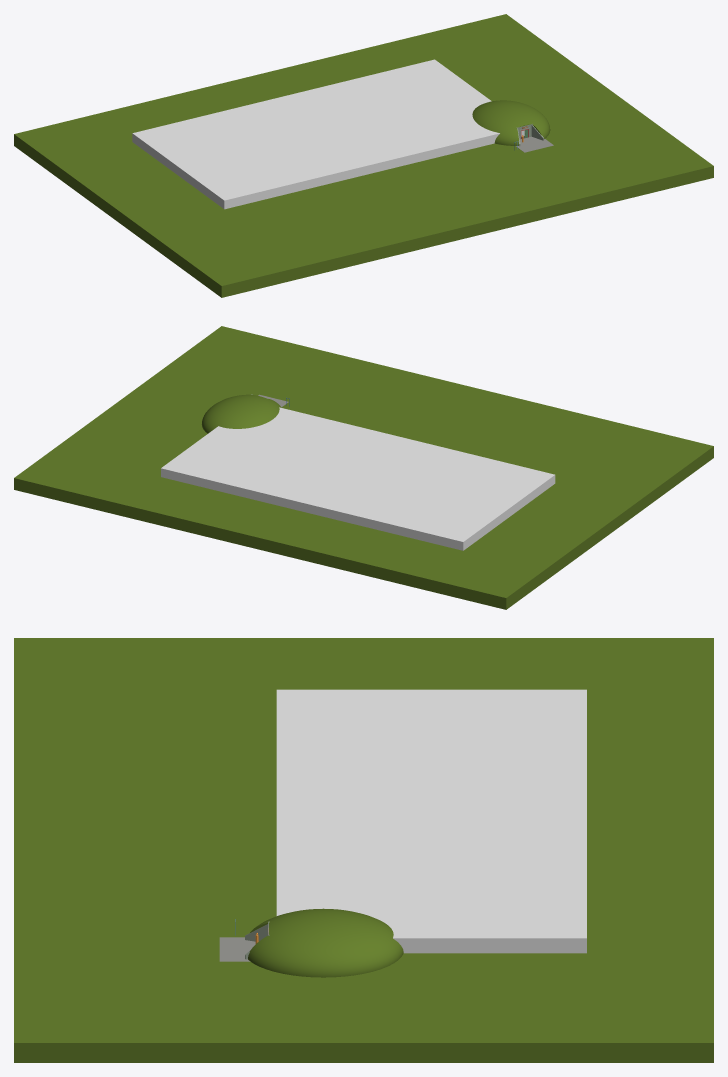
The model's file is ark_two_v007.glb.
3 renders of one model, top to bottom at view 1: azimuth 30°, elevation 25°; view 2: azimuth 150°, elevation 25°; view 3: azimuth 270°, elevation 25°, orthographic. The views are drawn at different scales.
Parts seen in each view (by area): view 1: Ground_Soil, Zone_Interior, Earth_Mound; view 2: Ground_Soil, Zone_Interior, Earth_Mound; view 3: Ground_Soil, Zone_Interior, Earth_Mound, Apron_Floor.
Boxes of the visible parts, <box> form: Ground_Soil: <box>14,14,713,297</box>; Zone_Interior: <box>132,59,524,209</box>; Earth_Mound: <box>472,100,550,145</box>; Ground_Soil: <box>14,326,713,609</box>; Zone_Interior: <box>161,407,555,550</box>; Earth_Mound: <box>201,394,281,433</box>; Ground_Soil: <box>14,638,713,1062</box>; Zone_Interior: <box>276,689,586,953</box>; Earth_Mound: <box>248,908,403,977</box>; Apron_Floor: <box>219,937,255,961</box>.
Bounding box in the file's own units: 130 × 11.86 × 95.
